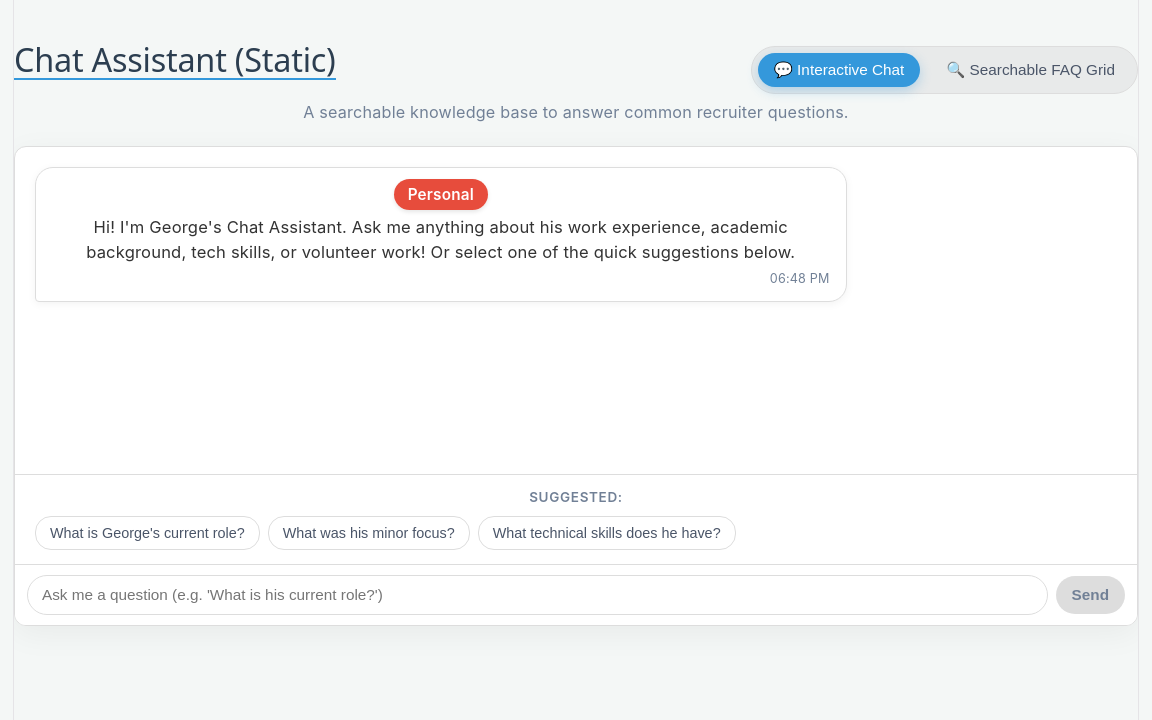
Test: CareerAssistant Component › renders FAQ items in FAQ mode
The image size is (1152, 720).
// Switch to FAQ mode
Click the button with aria-label "Switch to FAQ Search Mode".
click(1031, 70)  # box [930,53,1131,87]
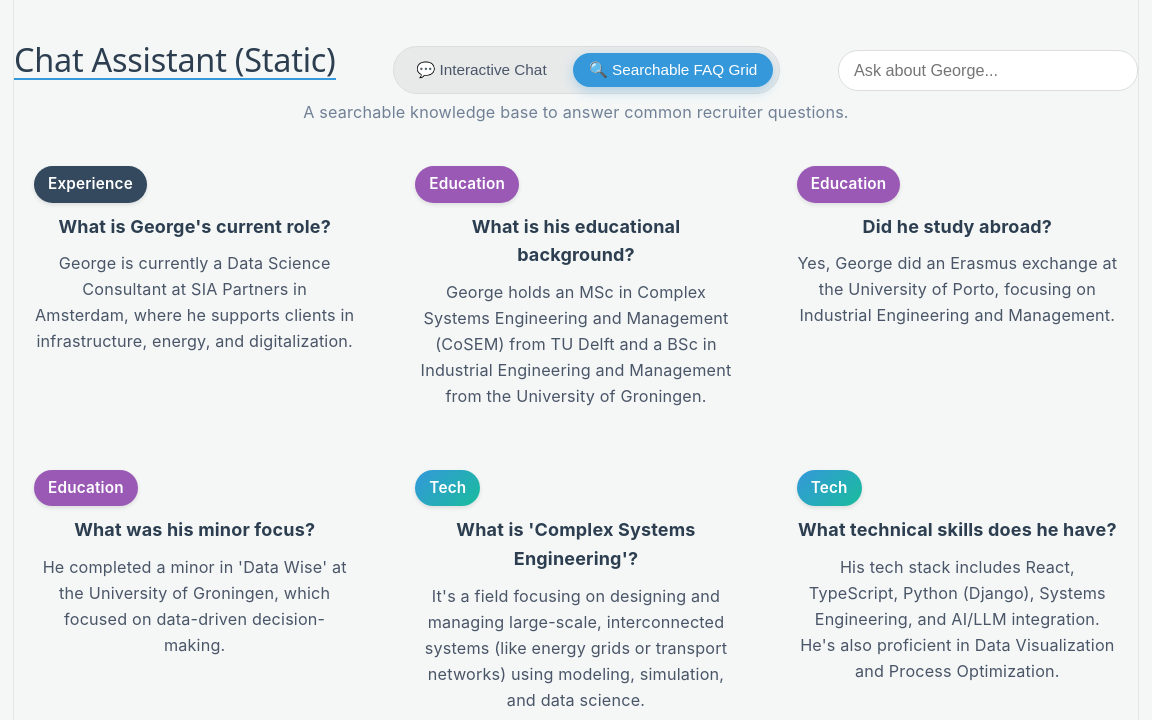
Check: the heading "What is George's current role?" is shown, box [58,216,331,237]
Check: the heading "What is his educational background?" is shown, box [472,216,680,265]
